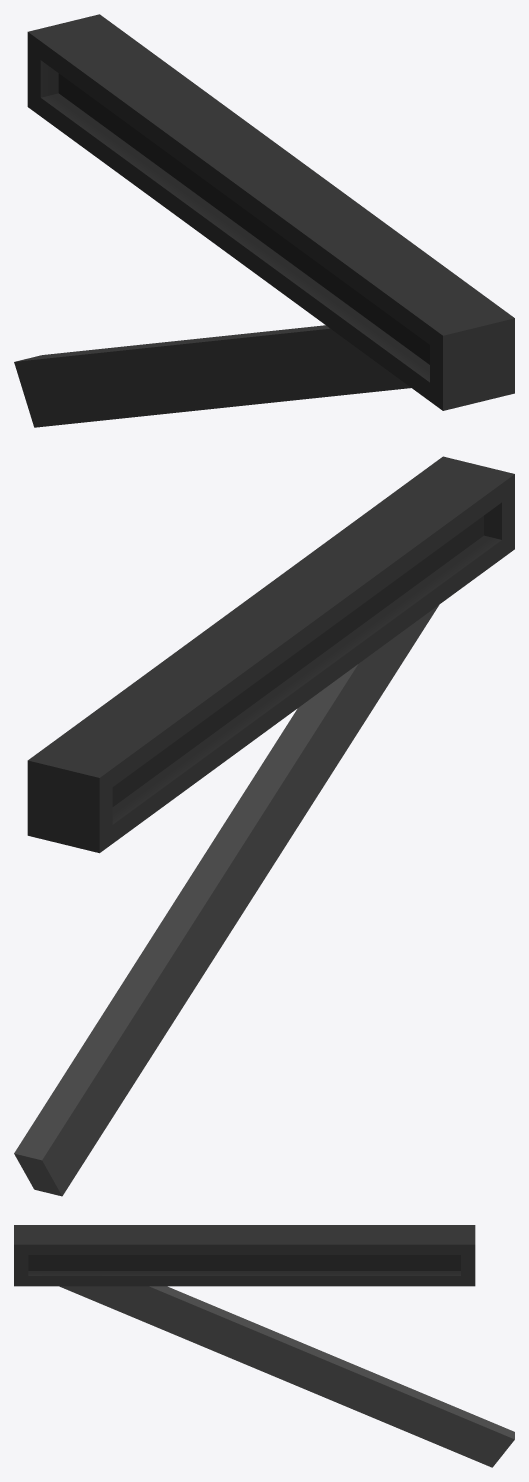
File: bracket.fbx
The picture shows the model from 3 angles, top to bottom: view 1: azimuth 30°, elevation 25°; view 2: azimuth 150°, elevation 25°; view 3: azimuth 270°, elevation 25°; orthographic projection. The views are drawn at different scales.
Visible parts, largest first — view 1: BracketMain; view 2: BracketMain; view 3: BracketMain.
Part boxes in pixels (box(x1,y1,x2,y2)): BracketMain: box(14, 14, 514, 427); BracketMain: box(14, 456, 514, 1196); BracketMain: box(14, 1225, 514, 1467).
Bounding box in the file's own units: 8 × 86.88 × 43.85.
Materials: 1 (1 with a texture image).
